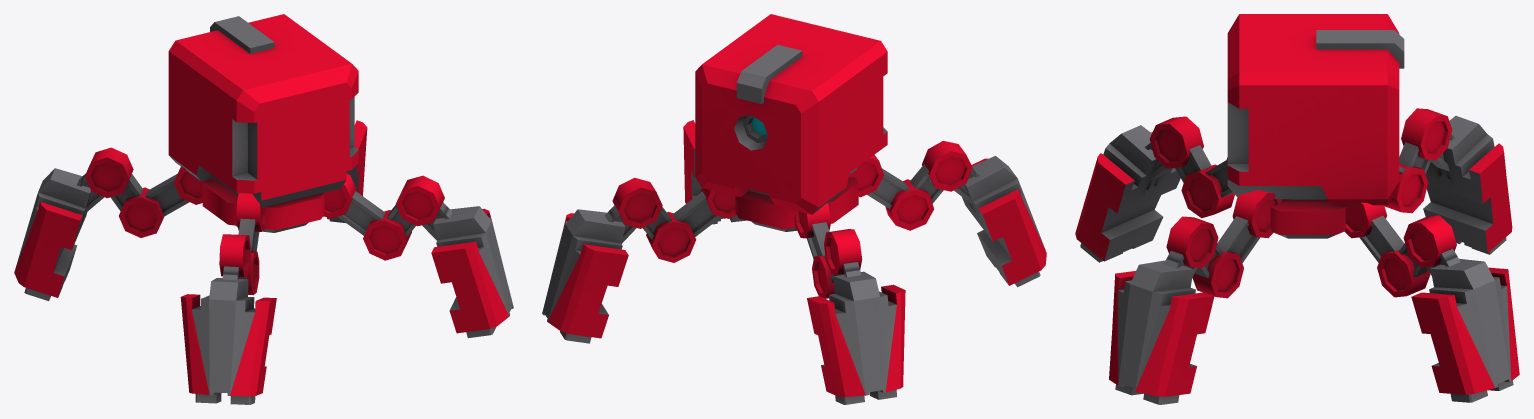
Rendered from Monster1_Move33.obj.
3 renders of one model, left to right at view 1: azimuth 30°, elevation 25°; view 2: azimuth 150°, elevation 25°; view 3: azimuth 270°, elevation 25°, orthographic. The views are drawn at different scales.
Parts seen in each view (by area): view 1: Box006, Object021, Object017, Object025, Object020, Object028, Object027, Object018, Object019, Object026, Object024, Object022 (+2 smaller); view 2: Box006, Object025, Object013, Object021, Object016, Object023, Object024, Object015, Object014, Object022, Object028, Object026 (+2 smaller); view 3: Box006, Object017, Object013, Object021, Object025, Object018, Object023, Object016, Object020, Object024, Object014, Object028 (+4 smaller).
Part boxes in pixels (x1,y1,x2,y2): Box006: [168, 14, 358, 232]; Object021: [180, 278, 276, 404]; Object017: [431, 206, 513, 338]; Object025: [14, 168, 91, 301]; Object020: [396, 175, 452, 240]; Object028: [77, 147, 133, 213]; Object027: [110, 174, 163, 237]; Object018: [323, 174, 385, 235]; Object019: [363, 205, 415, 260]; Object026: [145, 166, 215, 216]; Object024: [219, 234, 250, 280]; Object022: [236, 193, 265, 252]; Box006: [695, 14, 887, 231]; Object025: [807, 271, 905, 404]; Object013: [542, 209, 628, 343]; Object021: [962, 156, 1046, 287]; Object016: [605, 177, 662, 243]; Object023: [885, 164, 943, 230]; Object024: [922, 140, 979, 204]; Object015: [642, 207, 696, 262]; Object014: [672, 188, 736, 236]; Object022: [848, 154, 909, 208]; Object028: [824, 229, 862, 277]; Object026: [794, 203, 830, 258]; Box006: [1227, 14, 1404, 238]; Object017: [1109, 260, 1214, 404]; Object013: [1411, 258, 1519, 402]; Object021: [1075, 125, 1180, 262]; Object025: [1423, 116, 1512, 254]; Object018: [1217, 190, 1282, 262]; Object023: [1175, 145, 1234, 218]; Object016: [1403, 215, 1460, 275]; Object020: [1164, 216, 1218, 277]; Object024: [1144, 116, 1203, 180]; Object014: [1342, 202, 1404, 262]; Object028: [1401, 108, 1454, 171].
Bounding box in the file's own units: 152 × 108 × 153.
